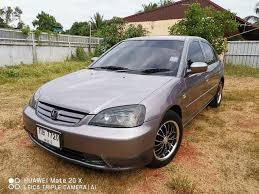sedan: (22, 34, 226, 172)
